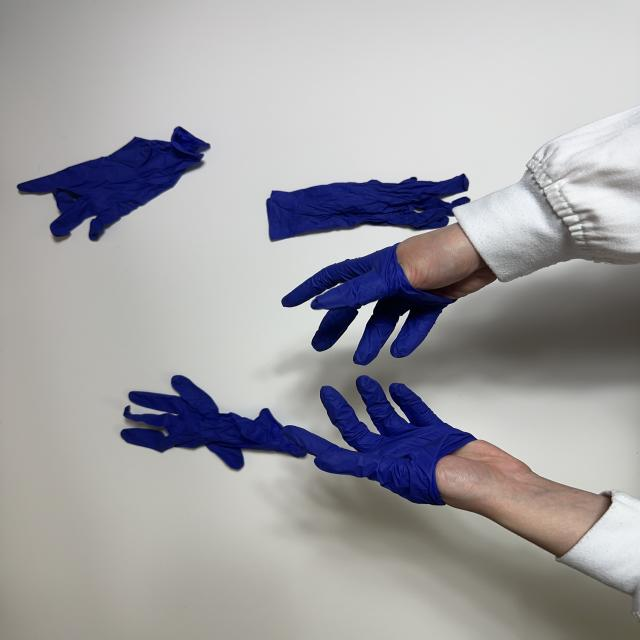glove_not_fitted: (272, 373, 613, 559), (278, 221, 504, 366)
